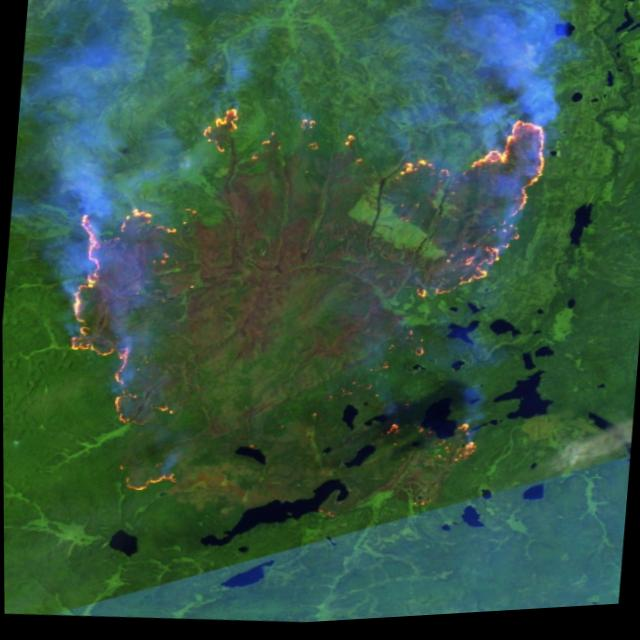fire: (40, 79, 560, 530)
